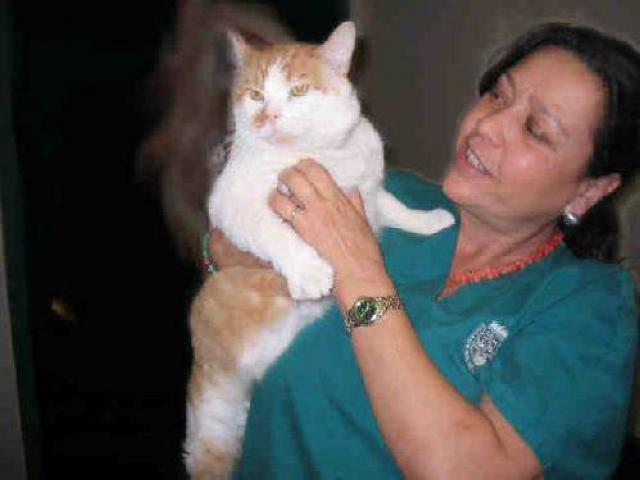cat: (185, 24, 407, 352)
